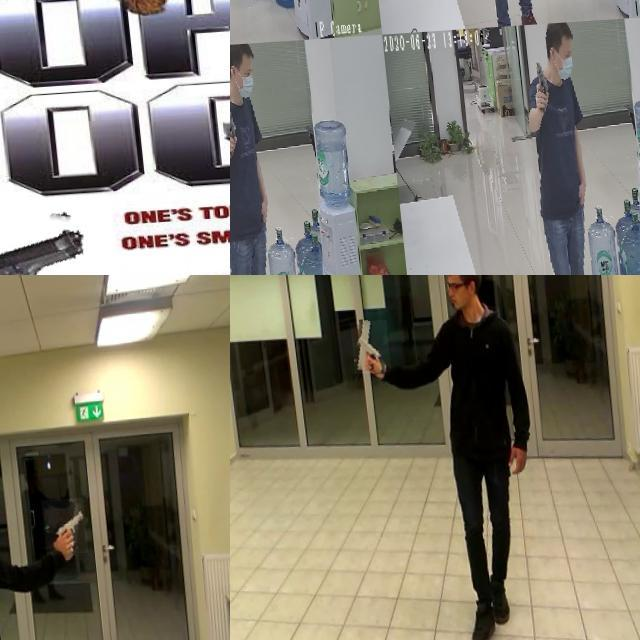gun-knife-thesis - v11 Yolov5 augmented: (0, 194, 104, 275), (34, 504, 82, 561), (344, 324, 384, 378), (522, 67, 541, 121), (230, 0, 246, 26), (496, 0, 512, 24), (230, 107, 238, 155)
